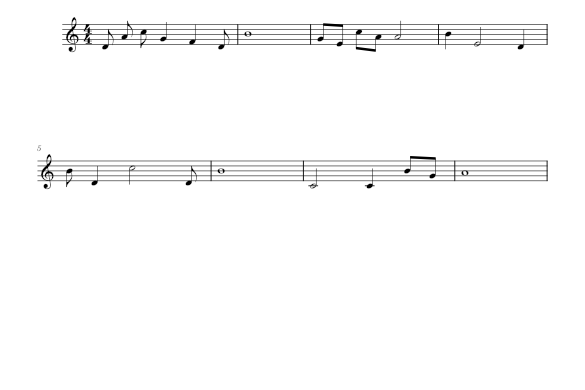Treble Clef: (62, 12, 82, 56), (38, 152, 57, 193)
